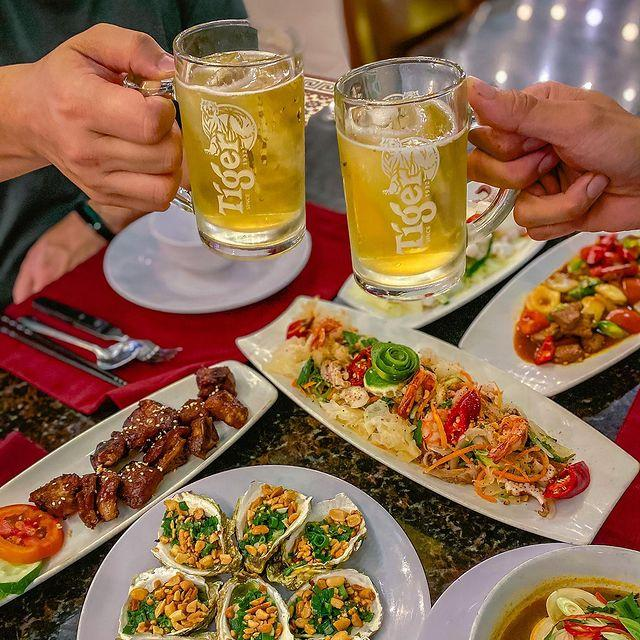bia: (339, 69, 495, 286), (159, 32, 299, 248)
bo luc lac: (522, 236, 640, 372)
hau nuong mo hanh: (118, 510, 403, 640)
mi xao: (300, 324, 555, 510)
suon xao chua ngot: (16, 354, 258, 484)
